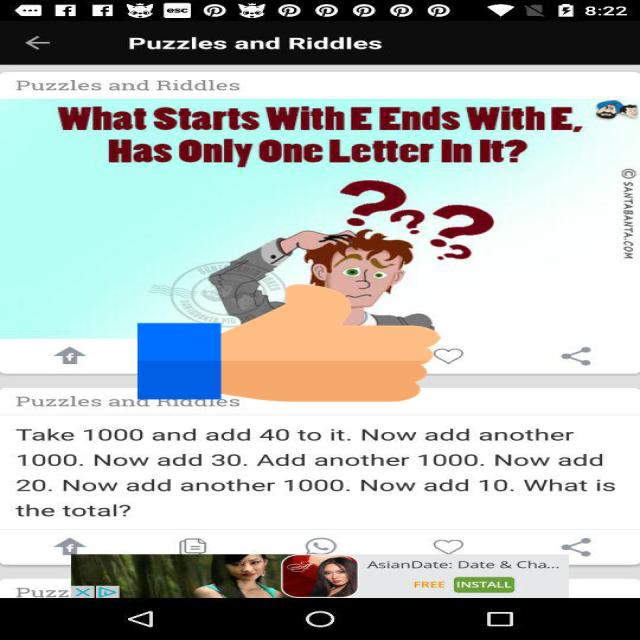privacy zuckering: (138, 281, 440, 405)
